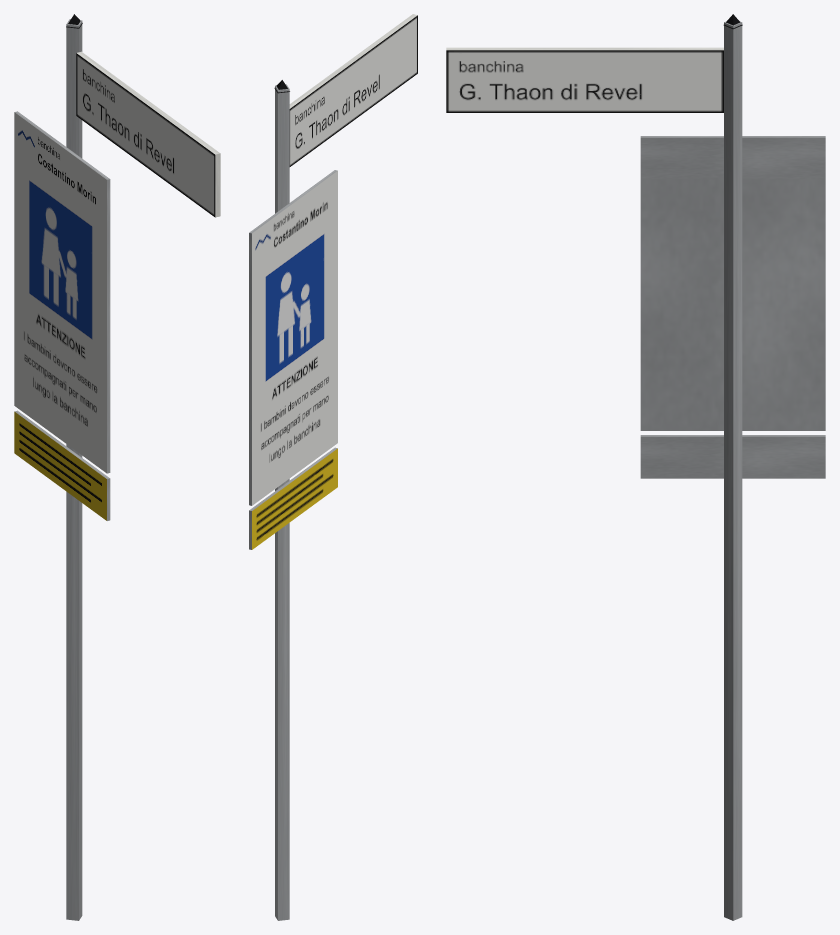
File: SM_Morin_PaloCartelli_LOD2.fbx
3 views of the same model, side by side, from view 1: azimuth 30°, elevation 25°; view 2: azimuth 150°, elevation 25°; view 3: azimuth 270°, elevation 25° (orthographic). The views are drawn at different scales.
Parts seen in each view (by area): view 1: SM_Morin_PaloCartelli_LOD2; view 2: SM_Morin_PaloCartelli_LOD2; view 3: SM_Morin_PaloCartelli_LOD2.
Boxes of the visible parts, left/top/right/bottom form: SM_Morin_PaloCartelli_LOD2: left=14, top=14, right=220, bottom=920; SM_Morin_PaloCartelli_LOD2: left=249, top=14, right=417, bottom=920; SM_Morin_PaloCartelli_LOD2: left=446, top=14, right=825, bottom=920.
Size of the model in its own units: 8.3 by 123 by 323.
1 material, 1 textured.
